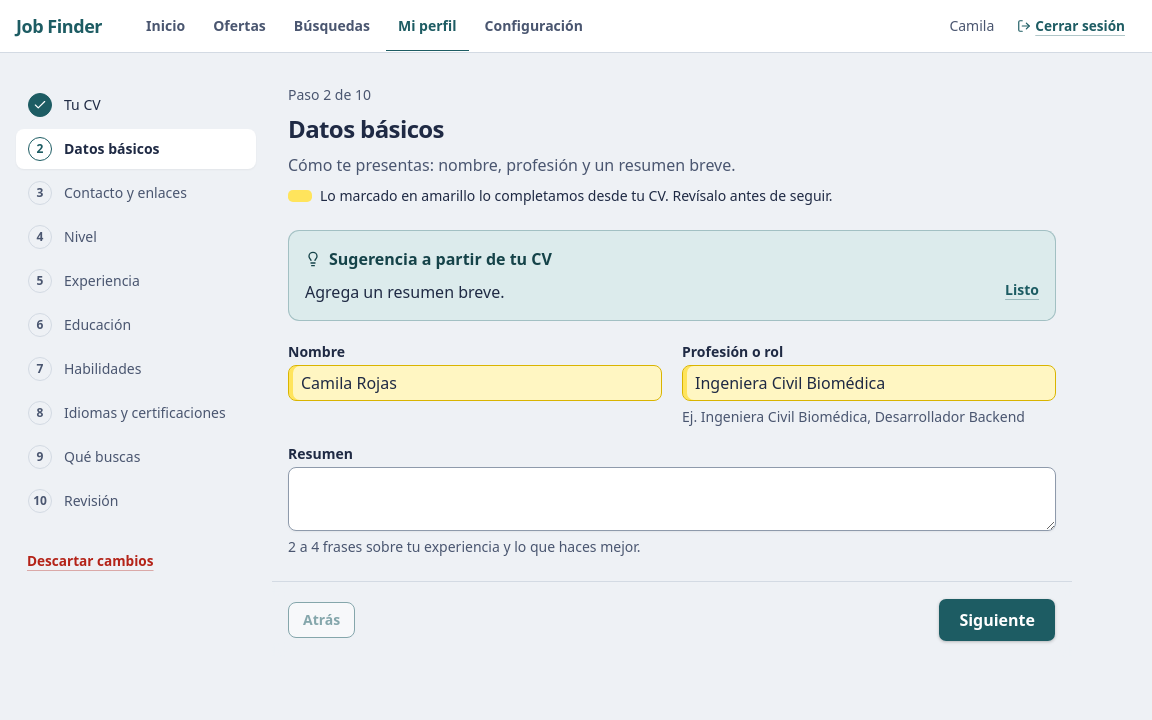
Mi perfil: wizard › muestra la sugerencia de la IA en su paso y la guarda resuelta al avanzar
Check: the text "Agrega un resumen breve." is shown, box top-left (305, 280), bottom-right (504, 304)
What coordinates should you click on to do the following:
click the button "Listo"
I would click on:
 (1022, 290)
Its box is top-left (1005, 280), bottom-right (1039, 300).
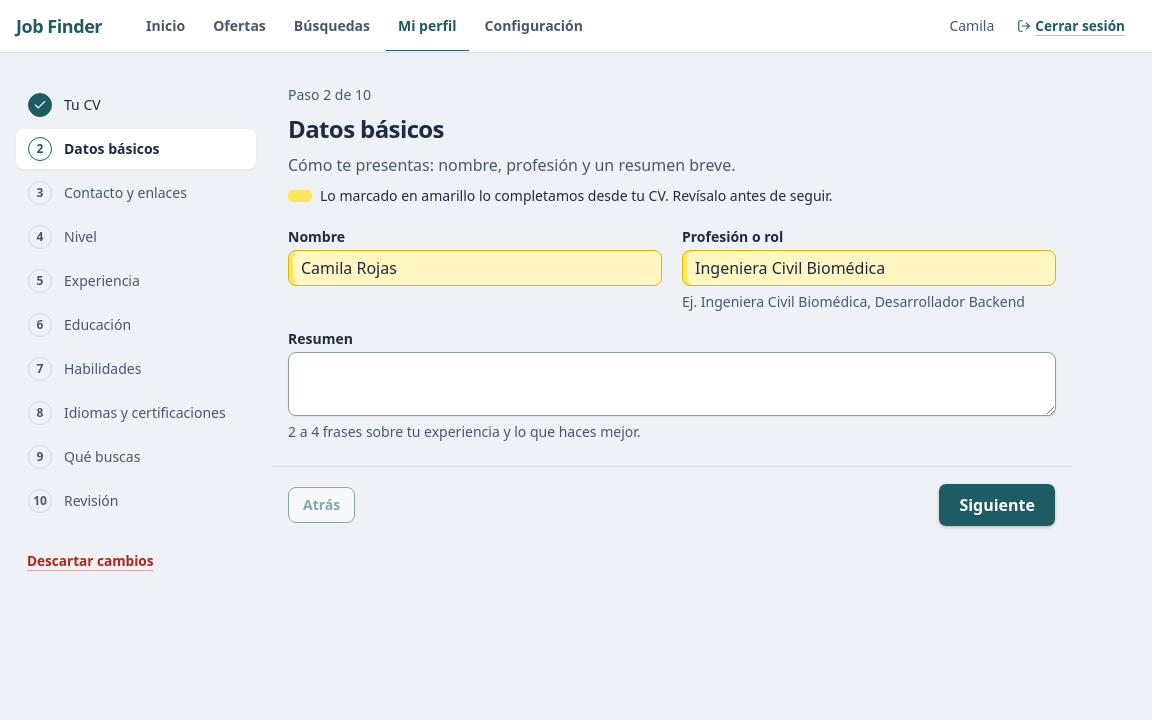
Check: the text "Agrega un resumen breve." is gone
What coordinates should you click on to do the following:
click the button "Siguiente"
I would click on:
 (997, 505)
Its box is top-left (938, 483), bottom-right (1056, 527).
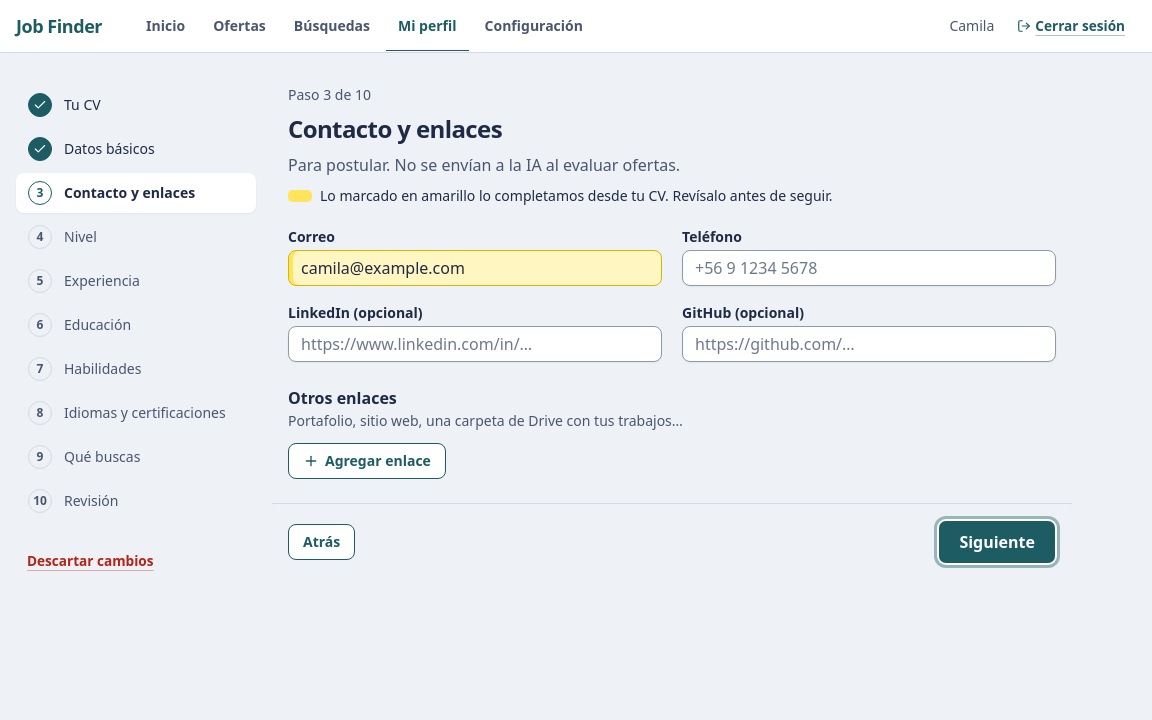
Check: the heading "Contacto y enlaces" is shown, box top-left (288, 112), bottom-right (502, 145)
